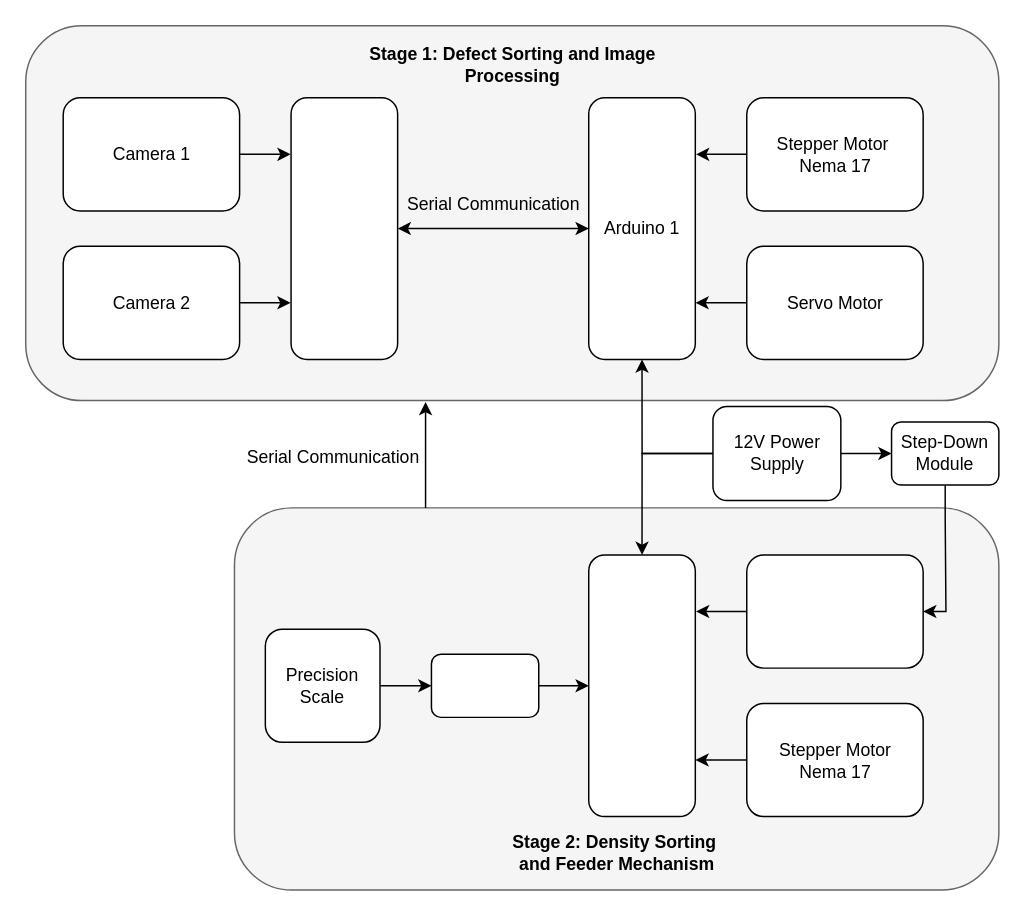
The diagram is 1025 pixels wide and 916 high, and some of its shapes have lost their labels. Each missing label, with the centre of its shape:
"6V DC Motor" belongs at point 834,610.
"Arduino 2" belongs at point 641,685.
"OpenCV (Laptop)" belongs at point 344,227.
"RS232" belongs at point 484,685.
